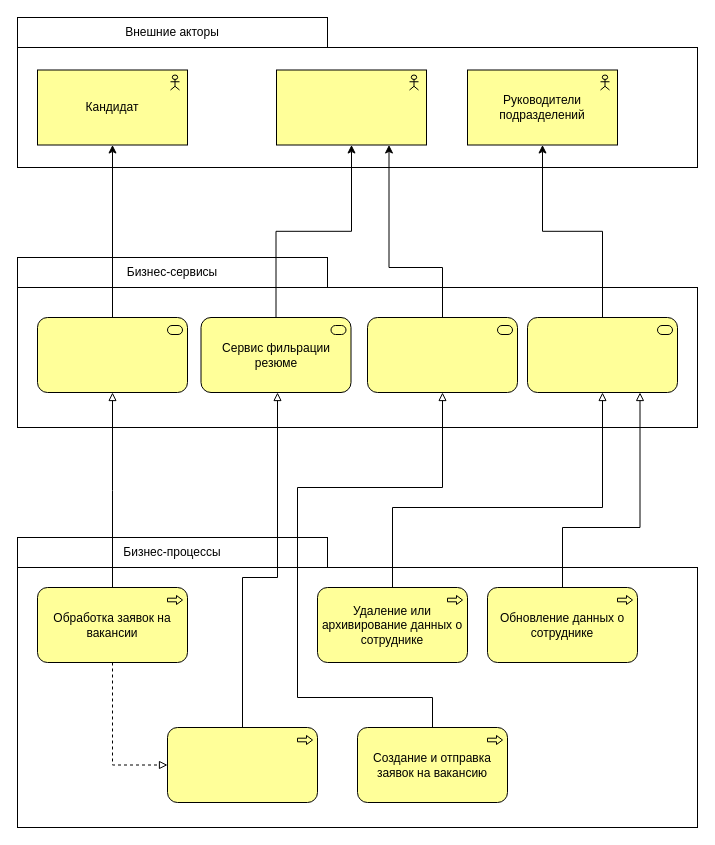
Some shapes in this 715 by 845 pixel diagram are drawn without their labels. Here are the shapes that lost their labels. From the top down, the box of each, then its label:
(276, 69, 426, 145): Отдел, нуждающийся в новых сотрудниках
(36, 316, 188, 392): Сервис приёма заявок
(366, 316, 518, 392): Сервис подачи заявки для отдела
(526, 316, 678, 392): Сервис управления данными сотрудников
(166, 726, 318, 802): Анализ резюме и оценка кандадатов
